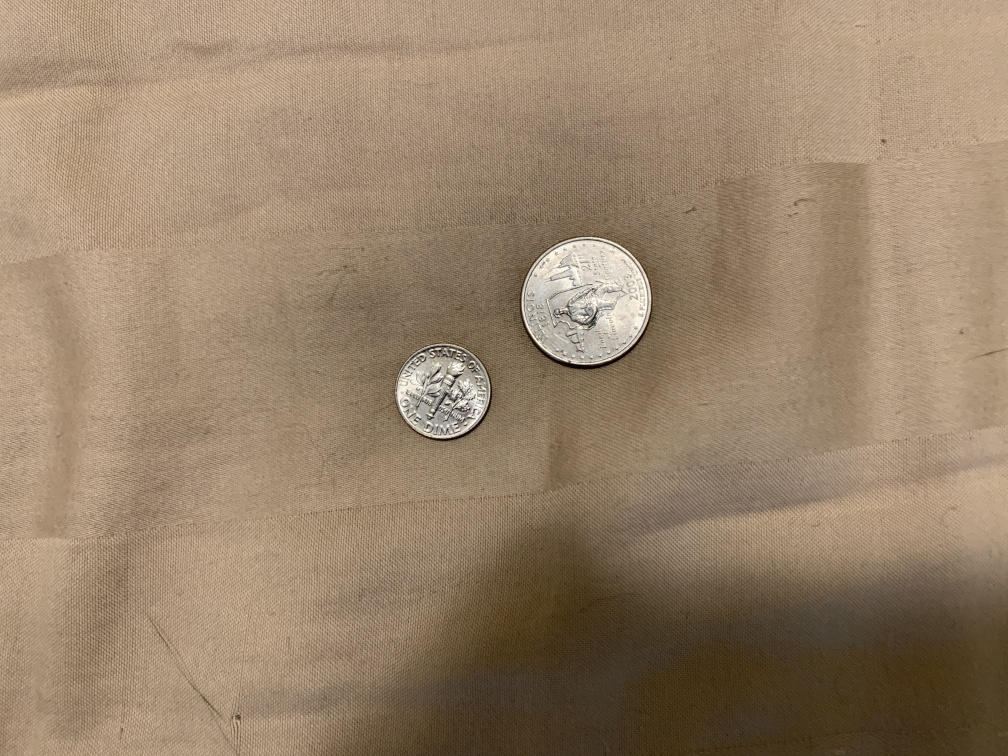dime: (391, 341, 494, 444)
quarter: (517, 235, 655, 367)
